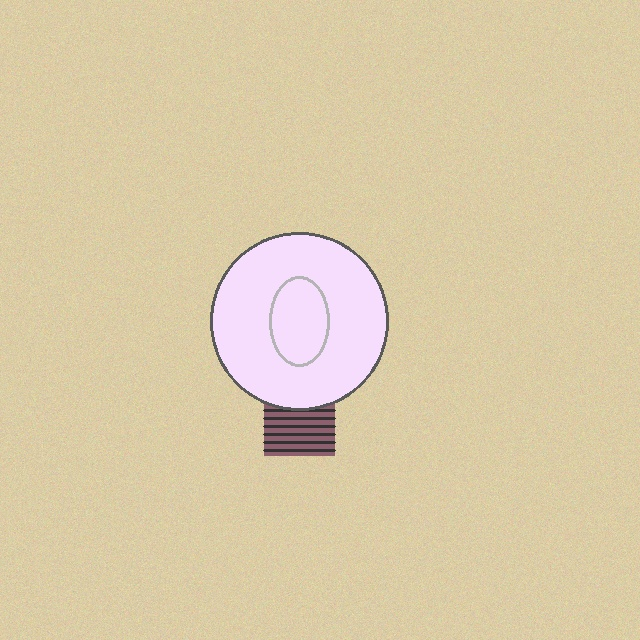bulb: (206, 228, 392, 460)
